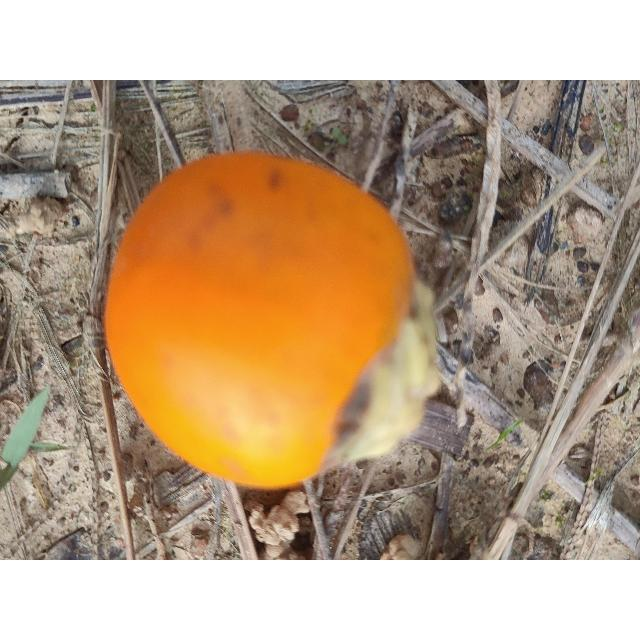good: (100, 150, 436, 492)
